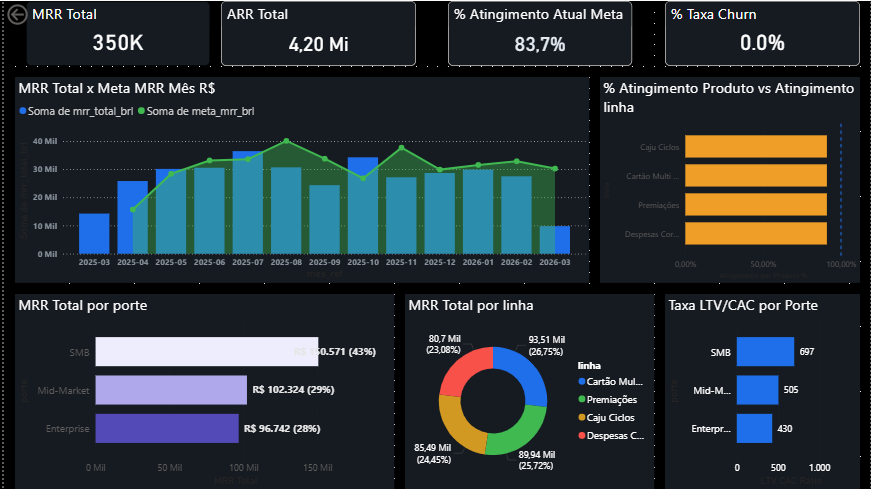

The dashboard page shown, as its layout file describes it:
{"tool":"powerbi","page":{"name":"Visão_Executiva","canvas":[1280,720],"ordinal":0},"visuals":[{"type":"card","title":"ARR Total","fields":{"Values":["Sum(vw_kpis_executivos (2).arr_brl)"]},"box":[320,0,288,96],"z":0},{"type":"card","title":"%  Atingimento Atual Meta","fields":{"Values":["vw_kpis_executivos.Atingimento Atual %"]},"box":[656,0,272,96],"z":1000},{"type":"advanceCardE03760C5AB684758B56AA29F9E6C257B","title":"% Taxa Churn","fields":{"mainMeasure":["vw_kpis_executivos.Churn Rate Atual %"],"tooltipMeasures":["vw_kpis_executivos.Churn Rate Atual %"]},"box":[976,0,288,96],"z":2000},{"type":"lineClusteredColumnComboChart","title":"MRR Total x Meta MRR Mês R$","fields":{"Category":["vw_kpis_executivos (2).mes_ref"],"Y":["Sum(vw_kpis_executivos (2).mrr_total_brl)"],"Y2":["Sum(vw_kpis_executivos (2).meta_mrr_brl)"]},"box":[16,112,848,304],"z":3000},{"type":"clusteredBarChart","title":"% Atingimento Produto vs   Atingimento linha","fields":{"Y":["FACT_TRANSACAO.Atingimento por Produto %"],"Category":["DIM_PRODUTO.linha"]},"box":[880,112,384,304],"z":4000},{"type":"advanceCardE03760C5AB684758B56AA29F9E6C257B","title":"MRR Total ","fields":{"mainMeasure":["Sum(vw_kpis_executivos (2).mrr_total_brl)"]},"box":[32,0,272,96],"z":5000},{"type":"actionButton","box":[0,0,100,40],"z":6000},{"type":"barChart","fields":{"Category":["DIM_EMPRESA.porte"],"Y":["FACT_TRANSACAO.MRR Total"]},"box":[16,432,560,288],"z":7000},{"type":"donutChart","fields":{"Category":["DIM_PRODUTO.linha"],"Y":["FACT_TRANSACAO.MRR Total"]},"box":[592,432,368,288],"z":8000},{"type":"clusteredBarChart","title":"Taxa LTV/CAC por Porte","fields":{"Y":["FACT_TRANSACAO.LTV CAC Ratio"],"Category":["DIM_EMPRESA.porte"]},"box":[976,432,288,288],"z":9000}]}

Visuals, with their boxes in screenshot pixels (x1, y1, x2, y2), scaled from the page's 1280x720 canvas onto the 871x489 screenshot:
"ARR Total" card: Rect(218, 0, 414, 65)
"%  Atingimento Atual Meta" card: Rect(446, 0, 631, 65)
"% Taxa Churn" advanceCardE03760C5AB684758B56AA29F9E6C257B: Rect(664, 0, 860, 65)
"MRR Total x Meta MRR Mês R$" lineClusteredColumnComboChart: Rect(11, 76, 588, 283)
"% Atingimento Produto vs   Atingimento linha" clusteredBarChart: Rect(599, 76, 860, 283)
"MRR Total " advanceCardE03760C5AB684758B56AA29F9E6C257B: Rect(22, 0, 207, 65)
actionButton: Rect(0, 0, 68, 27)
barChart - DIM_EMPRESA.porte x FACT_TRANSACAO.MRR Total: Rect(11, 293, 392, 488)
donutChart - DIM_PRODUTO.linha x FACT_TRANSACAO.MRR Total: Rect(403, 293, 653, 488)
"Taxa LTV/CAC por Porte" clusteredBarChart: Rect(664, 293, 860, 488)
